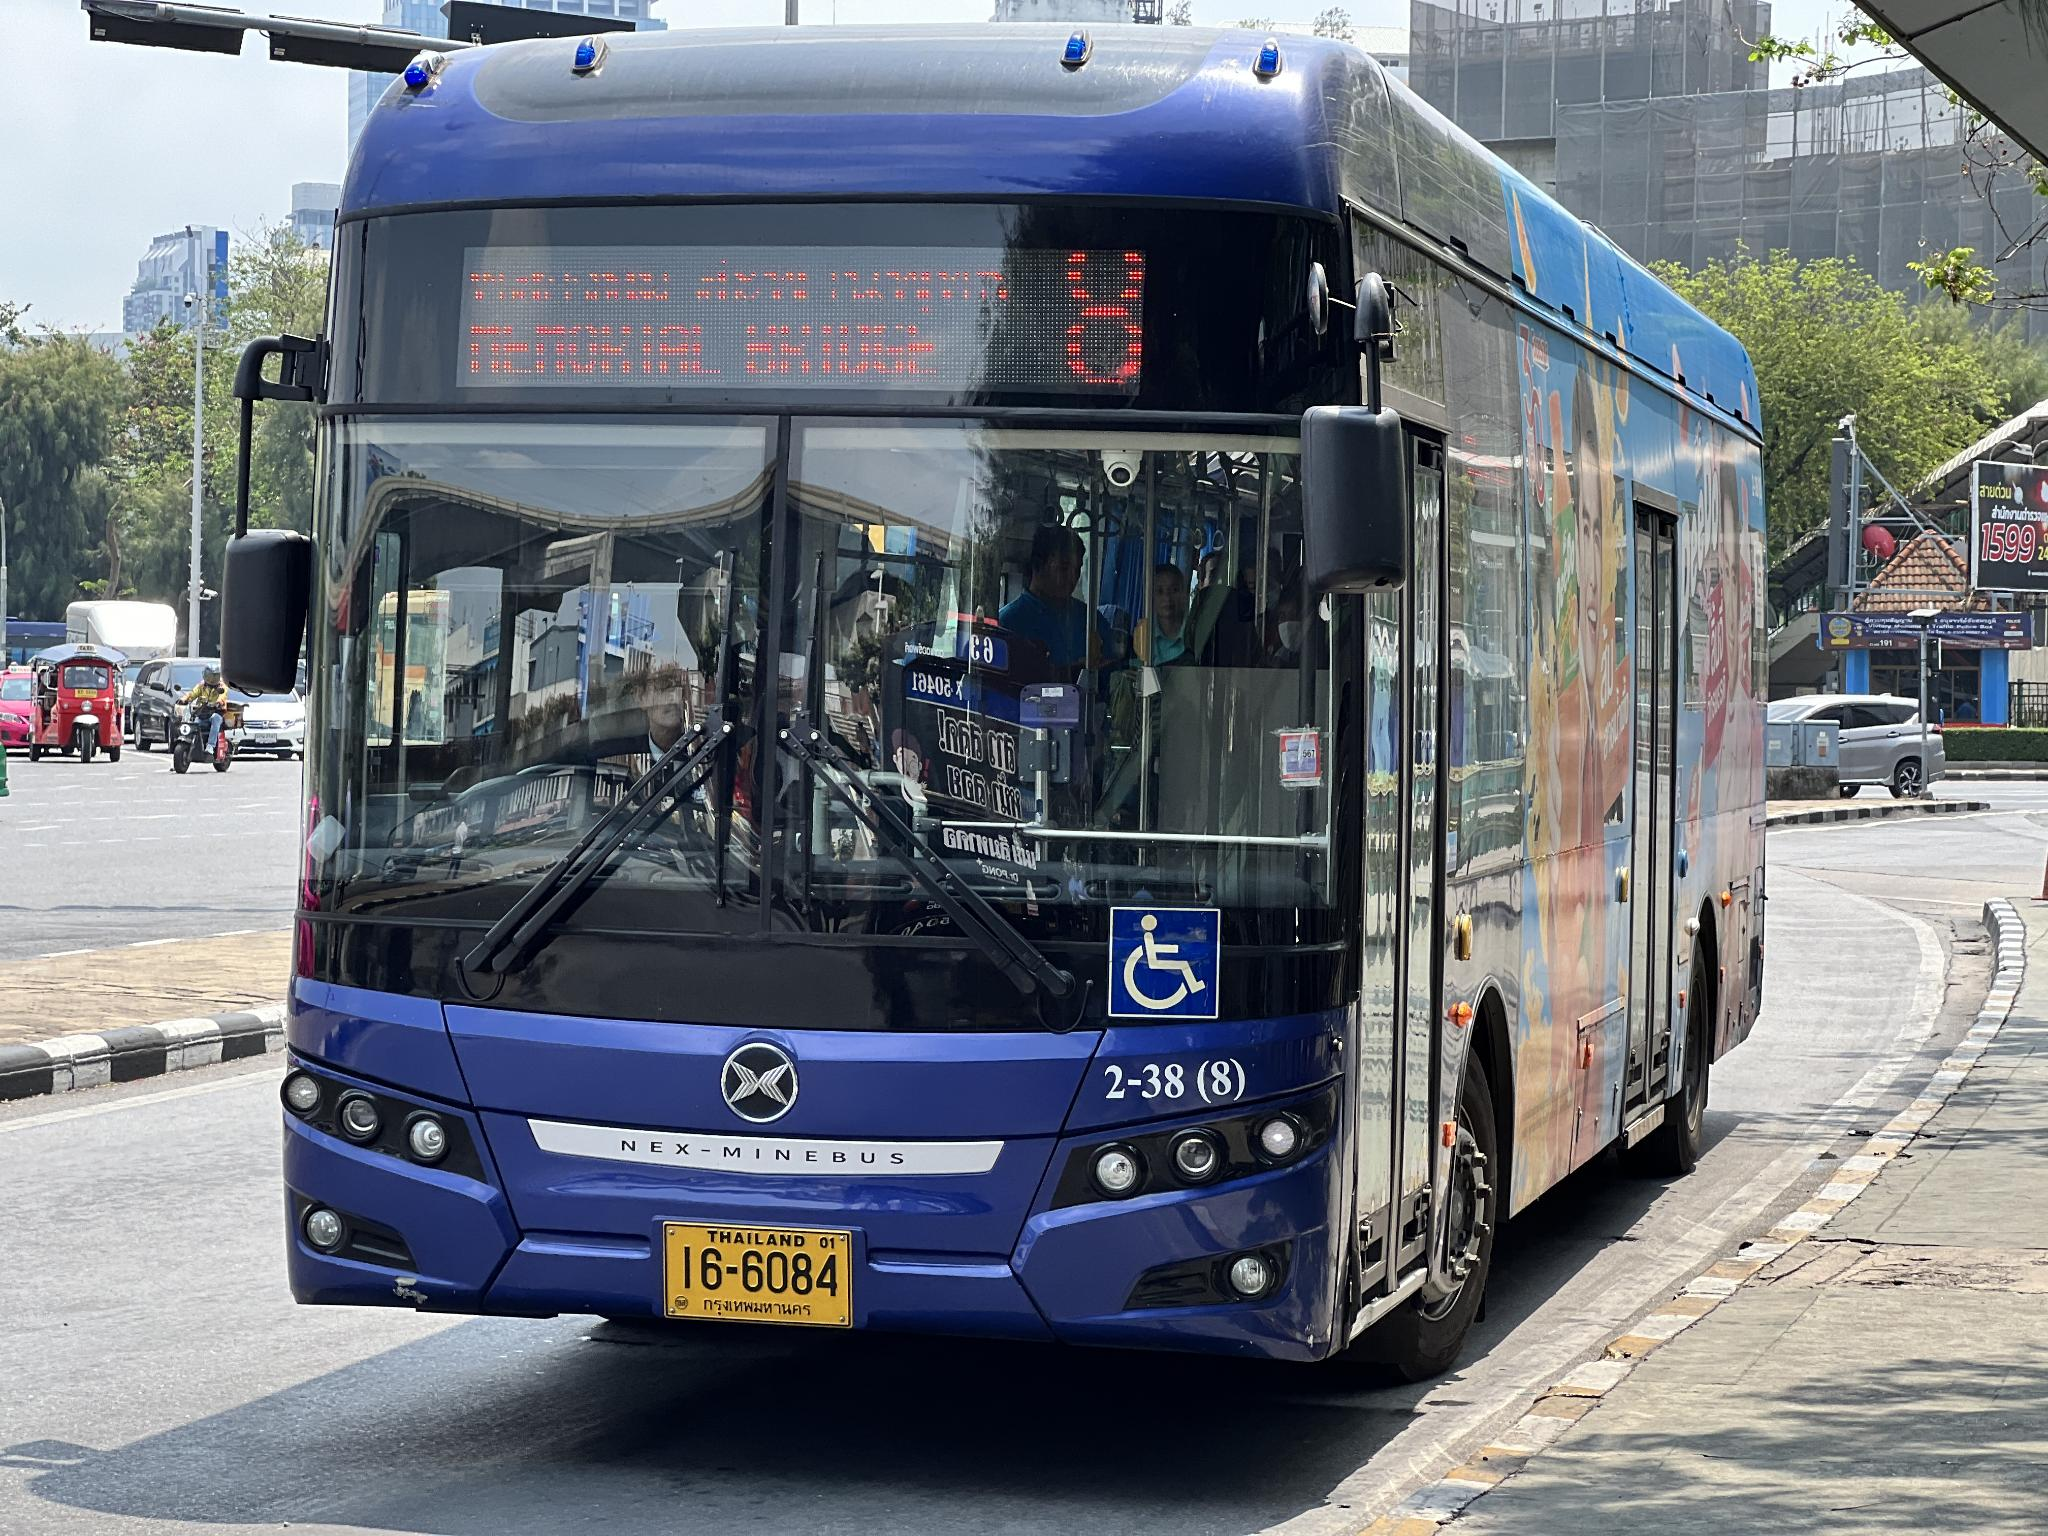Bus Line Number: (1027, 216, 1182, 410)
Bus Side Number: (1095, 1050, 1253, 1113)
Destination Sign: (445, 236, 1019, 408)
TSB-Bus: (276, 24, 1772, 1388)
